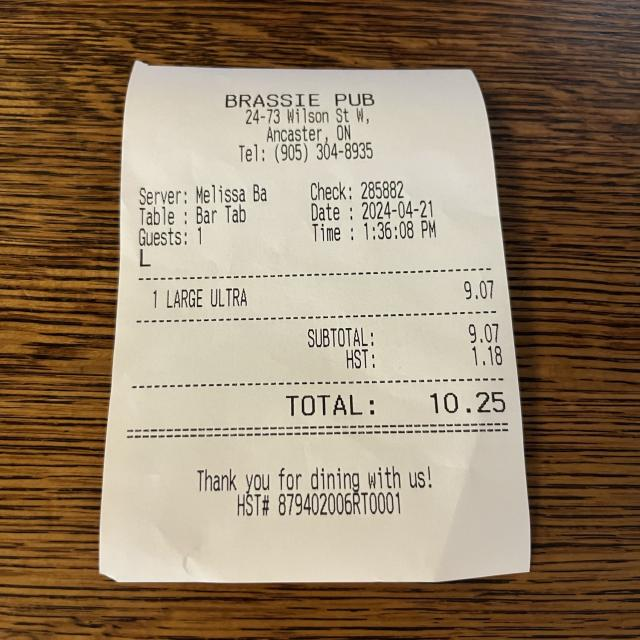item: (162, 275, 502, 312)
store_name: (215, 89, 384, 113)
total_amount: (278, 386, 516, 426)
transaction_date: (352, 195, 439, 223)
